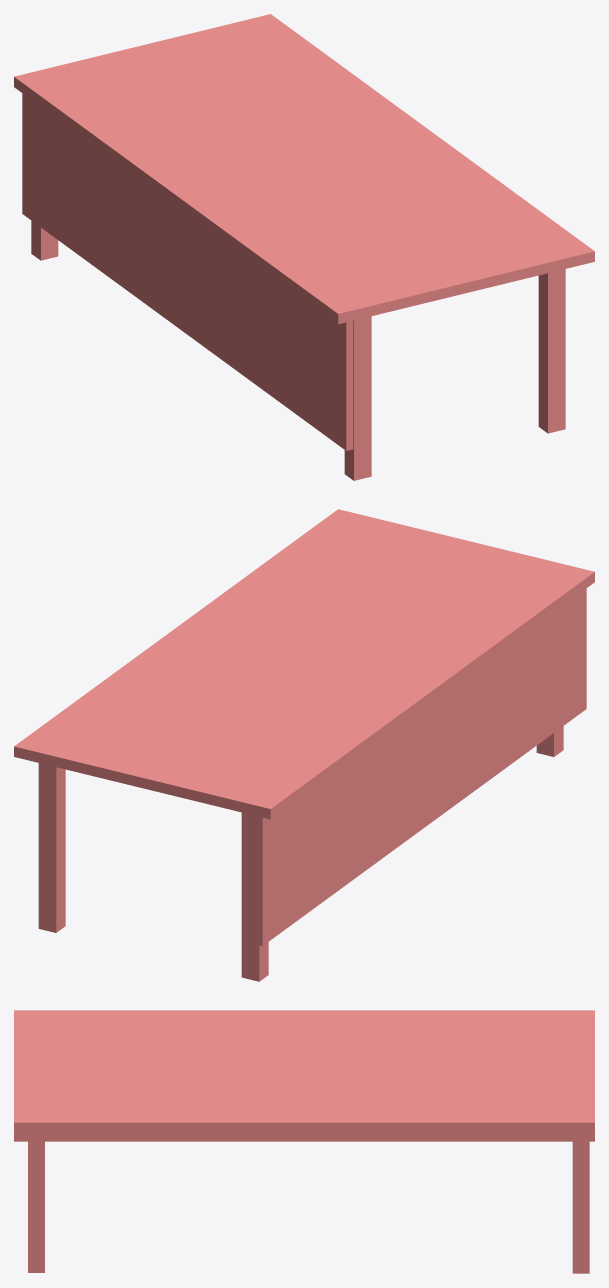
File: table_fractured.glb
3 views of the same model, one above another, from view 1: azimuth 30°, elevation 25°; view 2: azimuth 150°, elevation 25°; view 3: azimuth 270°, elevation 25° (orthographic). The views are drawn at different scales.
Visible parts, largest first — view 1: Table_fracturepart3, Table_fracturepart7, Table_fracturepart4, Table_fracturepart2, Table.5_fracturepart5, Table_fracturepart1, Table.5_fracturepart3, Table.5_fracturepart1, Table_fracturepart6, Table_fracturepart5, Table.5_fracturepart7, Table.5_fracturepart4 (+8 smaller); view 2: Table_fracturepart3, Table_fracturepart7, Table_fracturepart2, Table_fracturepart4, Table.5_fracturepart5, Table_fracturepart1, Table.5_fracturepart3, Table.5_fracturepart1, Table_fracturepart6, Table_fracturepart5, Table.5_fracturepart7, Table.5_fracturepart4 (+6 smaller); view 3: Table_fracturepart3, Table_fracturepart4, Table_fracturepart7, Table_fracturepart2, Table_fracturepart1, Table_fracturepart5, Table_fracturepart6, Table.5_fracturepart7, Table.5_fracturepart5, Table.1_fracturepart1, Table.4_fracturepart3, Table.4_fracturepart1 (+3 smaller).
Part boxes in pixels (box(x1,y1,x2,y2)): Table_fracturepart3: box(120, 49, 464, 318); Table_fracturepart7: box(209, 101, 582, 293); Table_fracturepart4: box(232, 14, 594, 264); Table_fracturepart2: box(128, 23, 399, 156); Table.5_fracturepart5: box(22, 128, 190, 310); Table_fracturepart1: box(14, 59, 192, 213); Table.5_fracturepart3: box(83, 166, 353, 366); Table.5_fracturepart1: box(184, 277, 353, 431); Table_fracturepart6: box(188, 168, 362, 324); Table_fracturepart5: box(86, 51, 315, 268); Table.5_fracturepart7: box(155, 303, 353, 450); Table.5_fracturepart4: box(22, 125, 259, 307); Table_fracturepart3: box(157, 541, 570, 794); Table_fracturepart7: box(223, 512, 467, 725); Table_fracturepart2: box(50, 628, 241, 791); Table_fracturepart4: box(14, 509, 350, 765); Table.5_fracturepart5: box(255, 787, 430, 946); Table_fracturepart1: box(198, 678, 448, 819); Table.5_fracturepart3: box(322, 588, 586, 810); Table.5_fracturepart1: box(425, 625, 586, 788); Table_fracturepart6: box(370, 566, 594, 699); Table_fracturepart5: box(165, 603, 512, 801); Table.5_fracturepart7: box(396, 690, 586, 848); Table.5_fracturepart4: box(255, 693, 499, 859); Table_fracturepart3: box(14, 1021, 594, 1065); Table_fracturepart4: box(14, 1101, 594, 1131); Table_fracturepart7: box(14, 1063, 461, 1116); Table_fracturepart2: box(276, 1060, 594, 1105); Table_fracturepart1: box(277, 1010, 594, 1041); Table_fracturepart5: box(111, 1023, 594, 1056); Table_fracturepart6: box(14, 1010, 348, 1026); Table.5_fracturepart7: box(14, 1132, 357, 1141); Table.5_fracturepart5: box(338, 1132, 594, 1141); Table.1_fracturepart1: box(572, 1194, 589, 1273); Table.4_fracturepart3: box(28, 1205, 44, 1272); Table.4_fracturepart1: box(28, 1132, 44, 1187).
Size of the model in its own units: 2.46 by 1.64 by 5.39.
